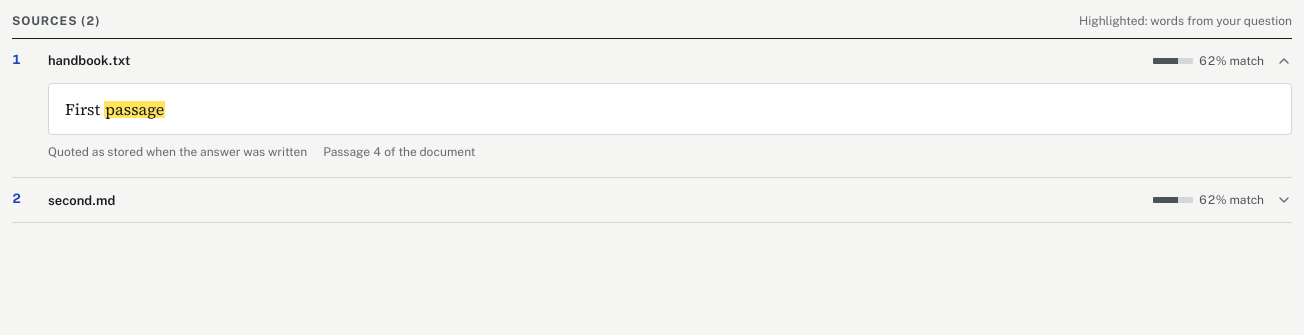
Test case: Sources / CitationItem › orders by rank and opens only the first passage; toggles with aria-expanded
The image size is (1304, 335).
Expected: the button "handbook.txt 62% match" is shown, [48,39,1292,83]
Step 1. Click the button "second.md 62% match" → (82, 200), box [48,178,1292,222]
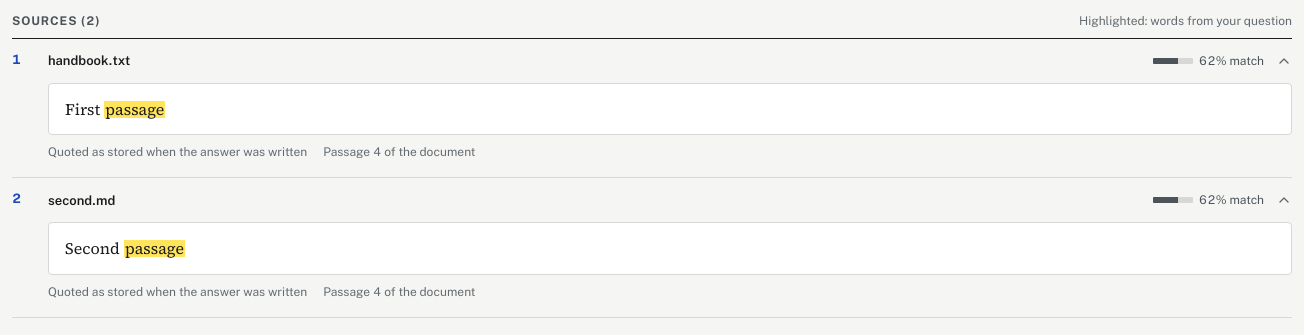
Now the button "second.md 62% match" is expanded, box [48,178,1292,222]
Now the text "Second" is shown, box [65,237,124,259]
Step 2. Click the button "handbook.txt 62% match" → (89, 61), box [48,39,1292,83]
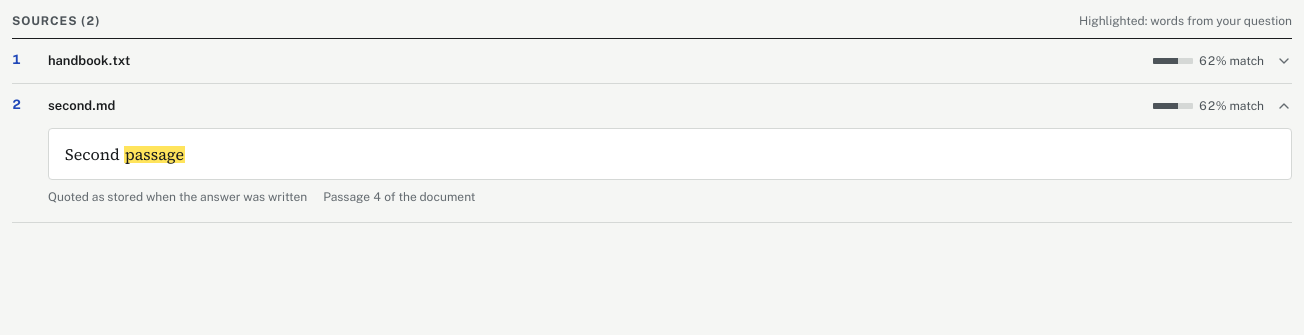
Now the button "handbook.txt 62% match" is collapsed, box [48,39,1292,83]
